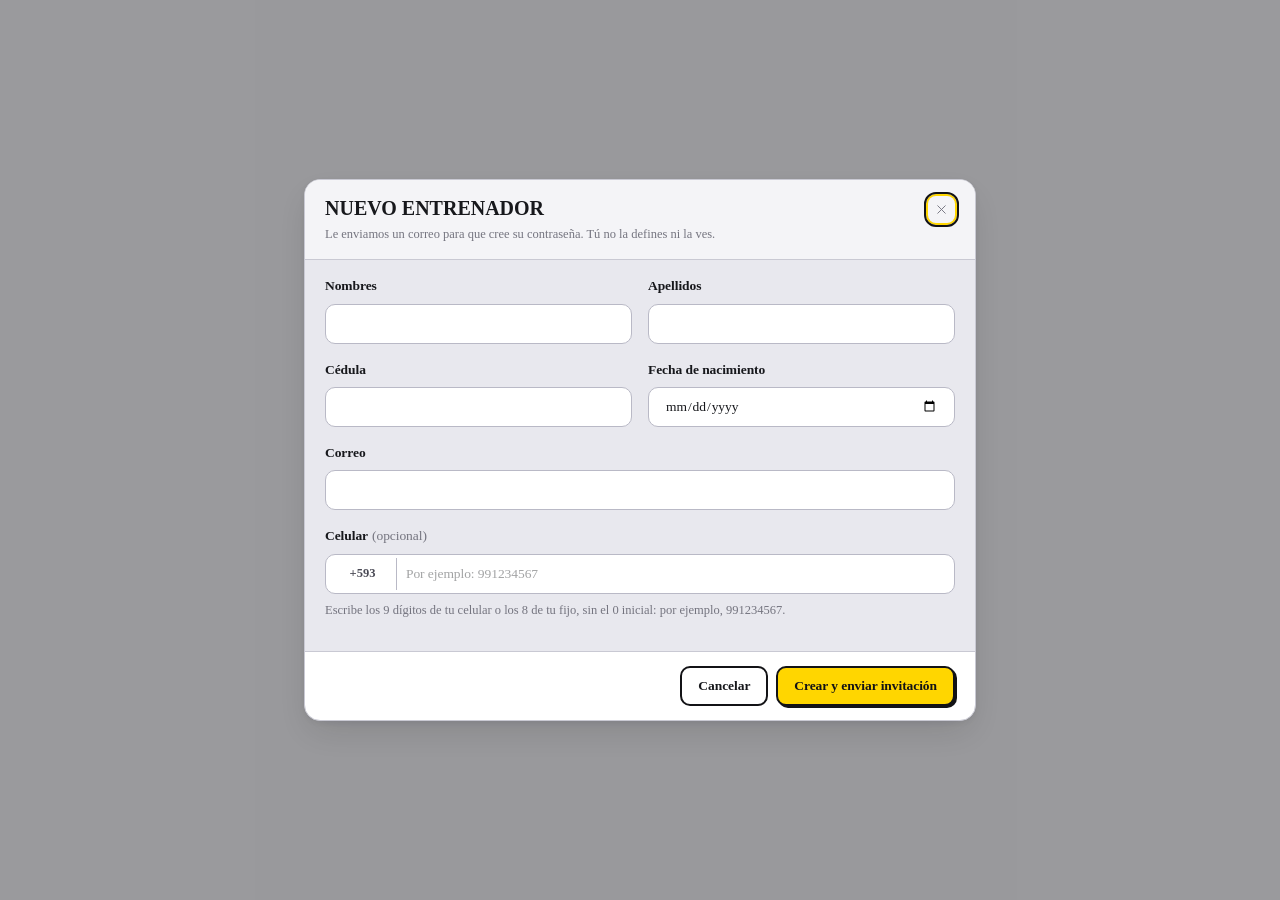
Test: NewTrainerDialog › blocks the submit and says what is wrong with the correo
Type "Marta" into the field labelled "Nombres" at (478, 324), box [325,304,632,344]
Type "Zambrano" into the field labelled "Apellidos" at (802, 324), box [648,304,955,344]
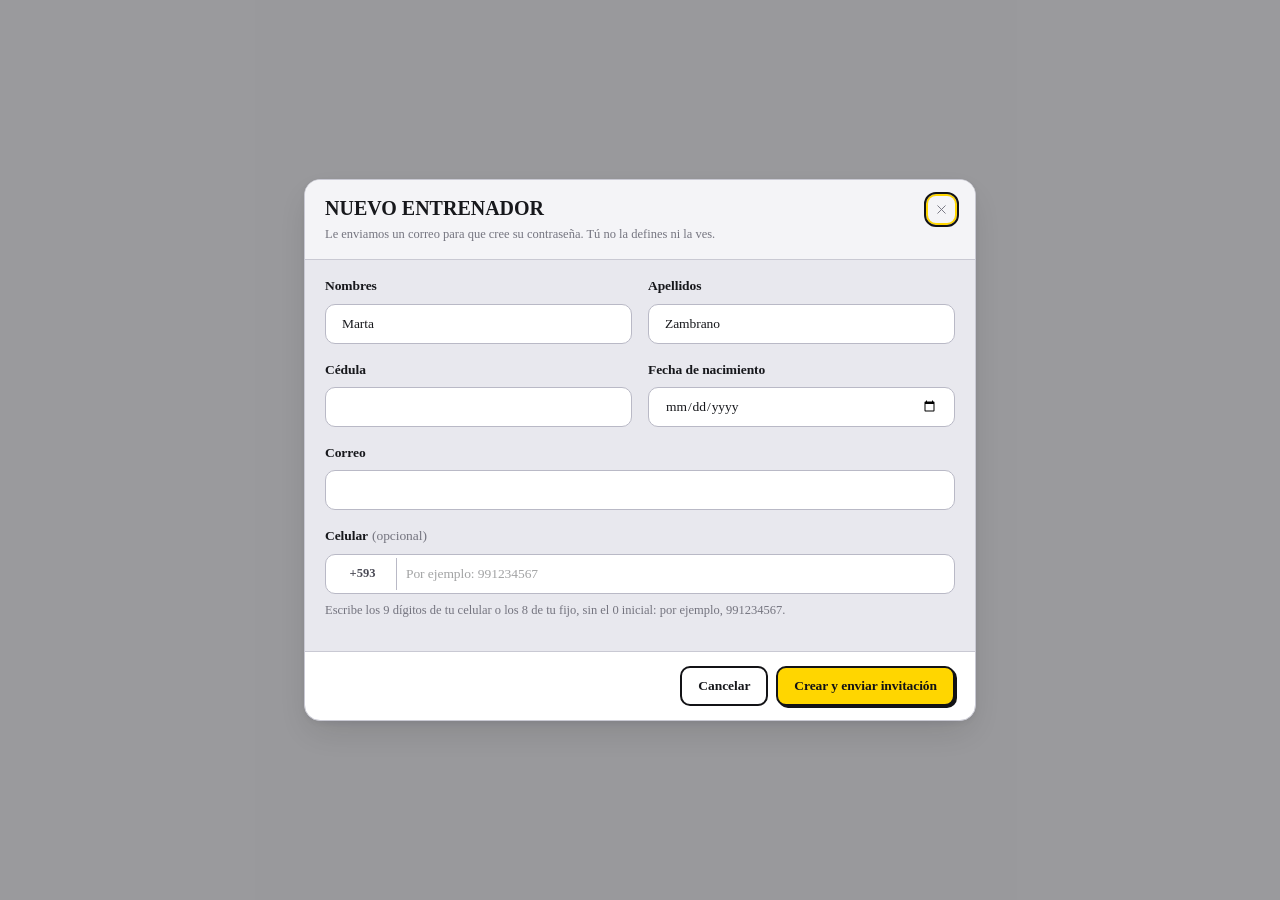
Type "1710034065" into the field labelled "Cédula" at (478, 407), box [325,387,632,427]
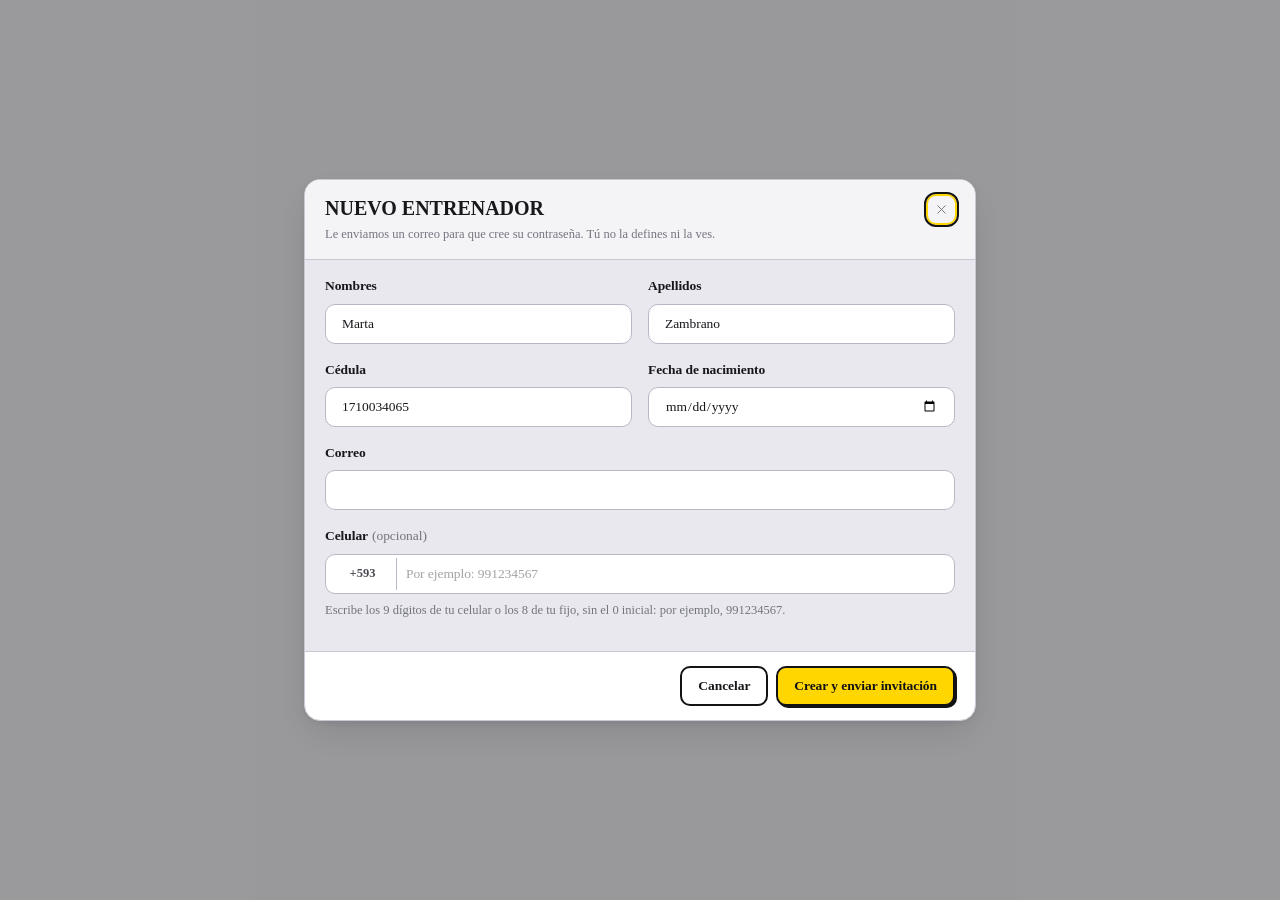
Type "1988-03-02" into the date field labelled "Fecha de nacimiento" at (802, 407), box [648,387,955,427]
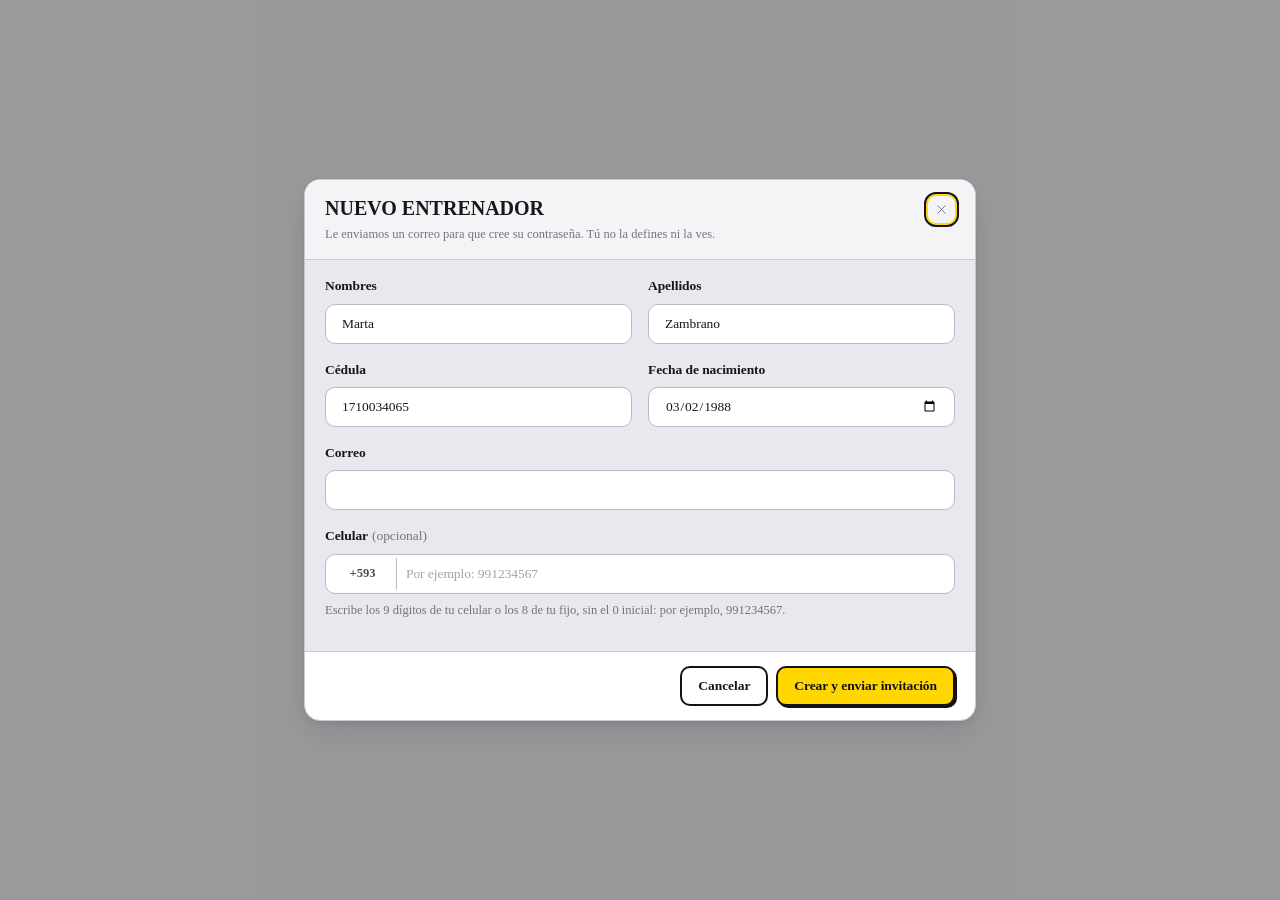
Type "no-es-correo" into the field labelled "Correo" at (640, 490), box [325,470,955,510]
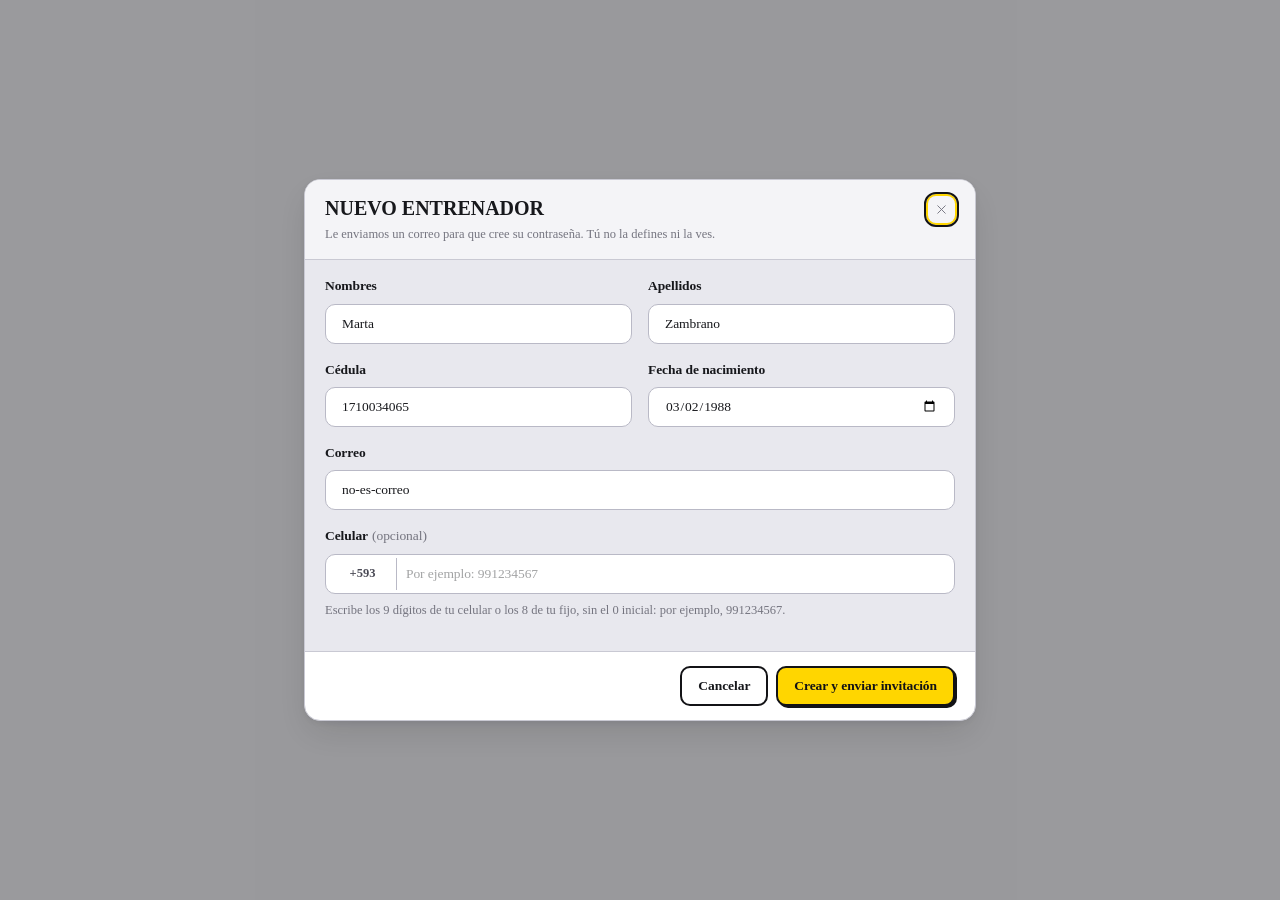
Type "0991234567" into the field labelled "Celular(opcional)" at (640, 574), box [325,554,955,594]
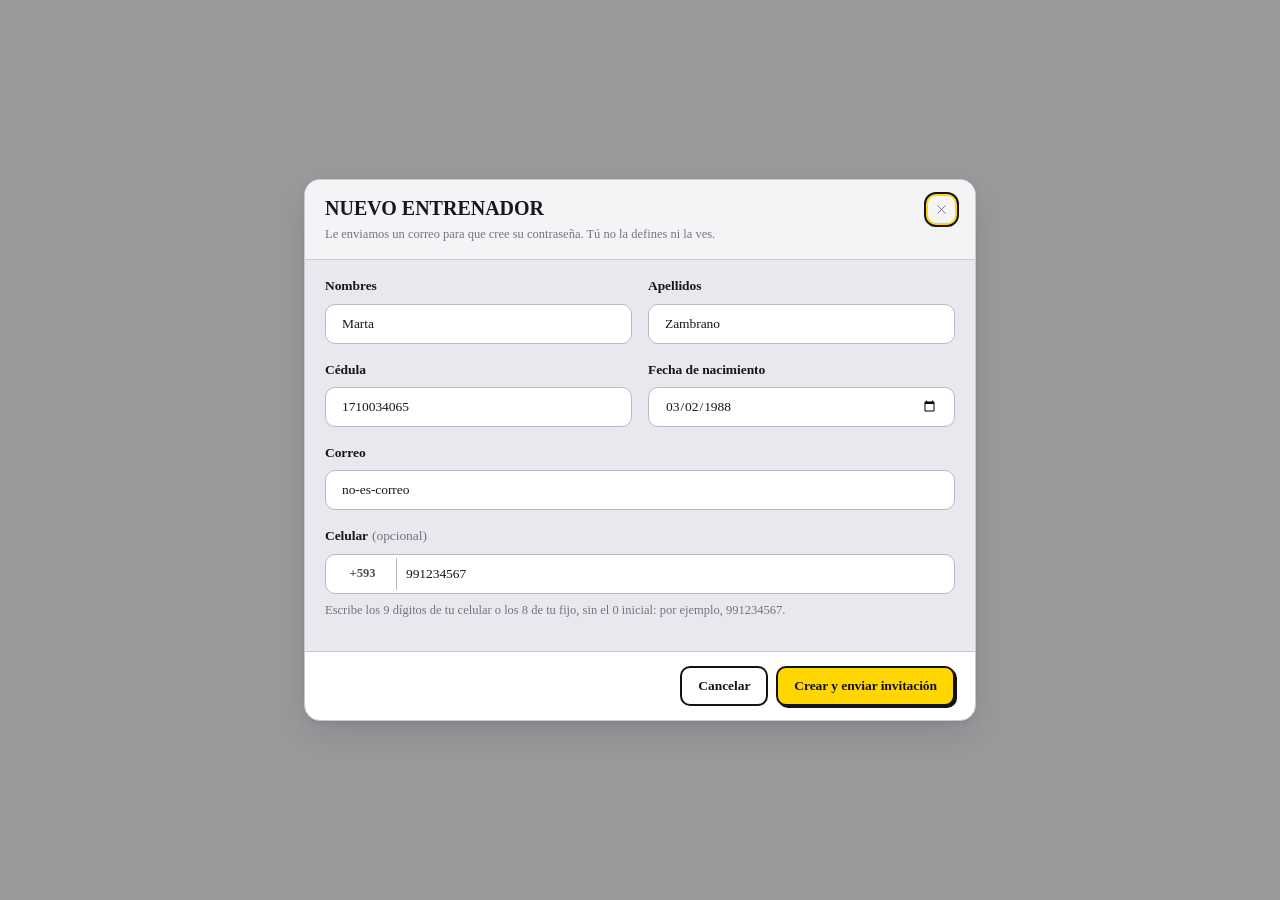
Click the button "Crear y enviar invitación" at (866, 686), box [776,666,955,706]
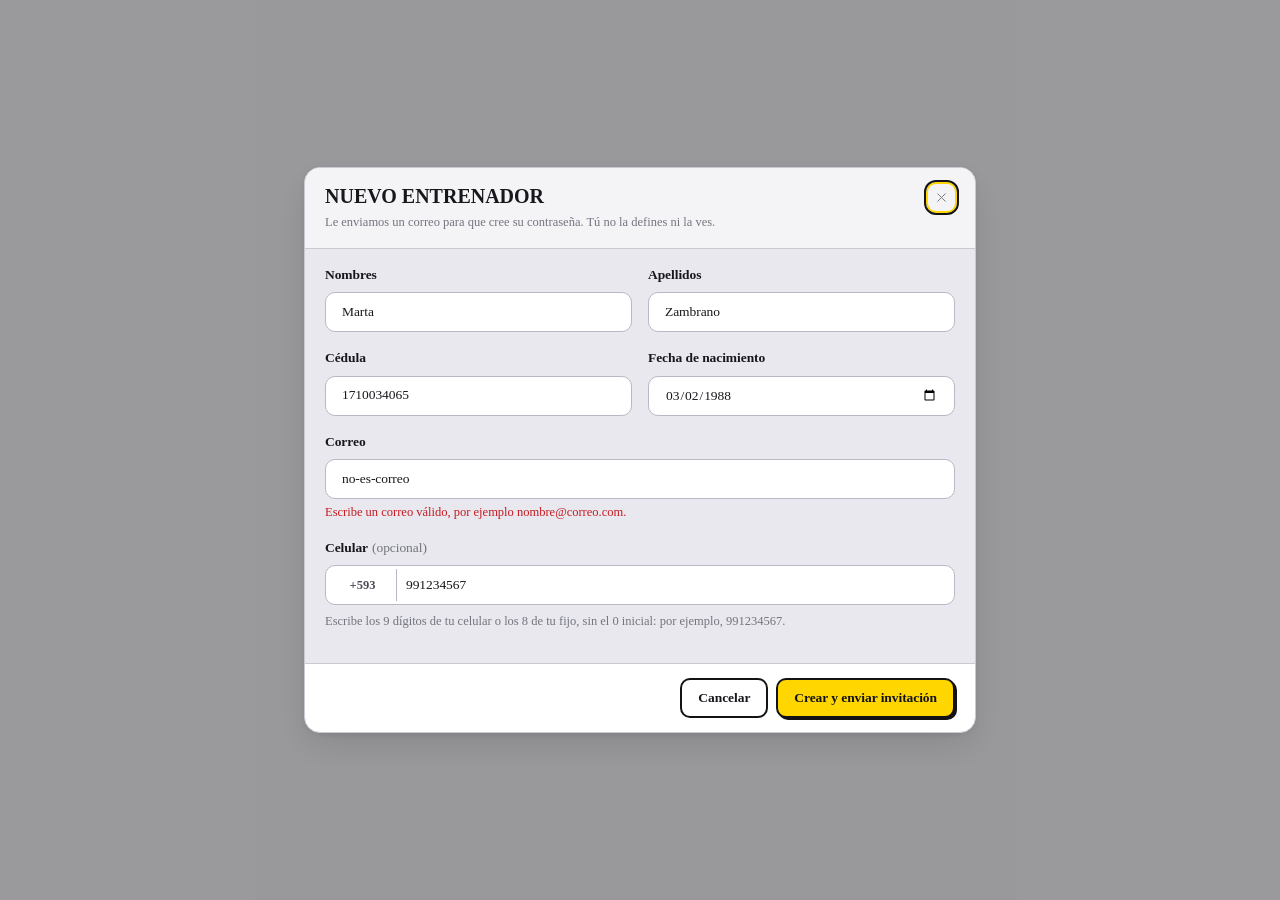
Check: the text "Escribe un correo válido, por ejemplo nombre@correo.com." is shown, box [325,505,626,519]
